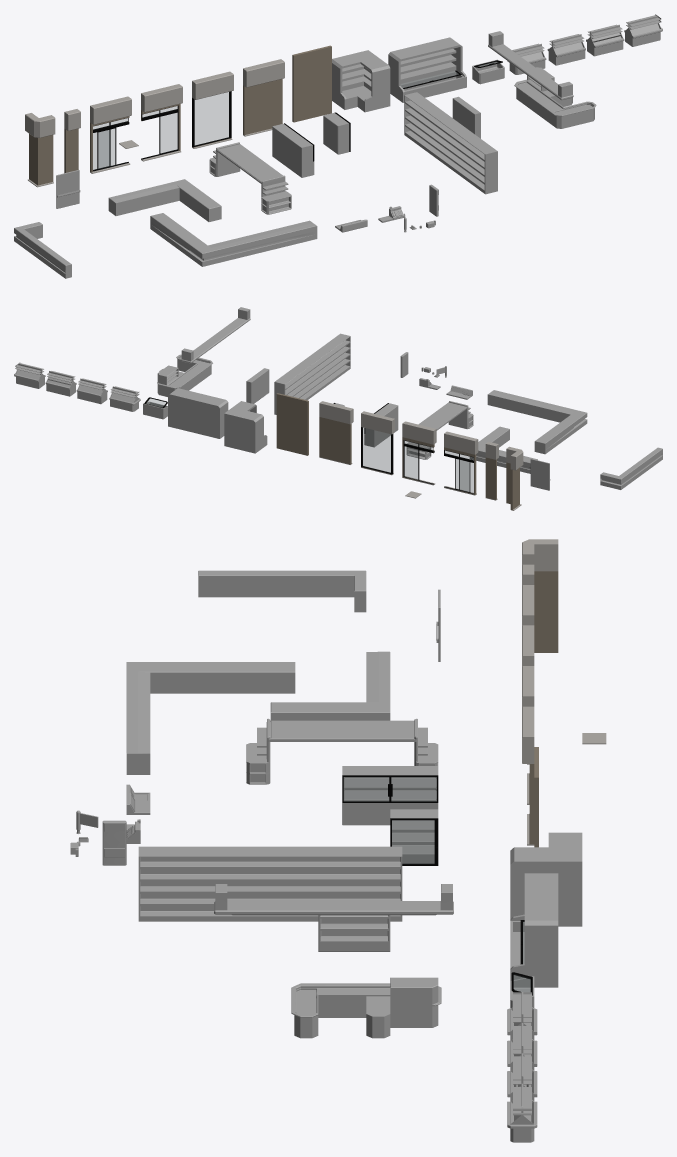
The model's file is GroceryStoreModular.fbx.
3 views of the same model, one above another, from view 1: azimuth 30°, elevation 25°; view 2: azimuth 150°, elevation 25°; view 3: azimuth 270°, elevation 25° (orthographic). The views are drawn at different scales.
Visible parts, largest first — view 1: tall_shelf, fridge_shelf, self_check_out_table_2, fridge_shelf_corner, GSmod_wall_3m, GSmod_wall_intersecting, low_shelf, self_check_out_table_1, cashier, GSmod_corner, frozenShelf, window_glass (+16 smaller); view 2: tall_shelf, self_check_out_table_2, fridge_shelf, GSmod_wall_3m, GSmod_wall_intersecting, fridge_shelf_corner, cashier, low_shelf, window_glass, GSmod_doorFrame_right, GSmod_doorFrame_left, table (+15 smaller); view 3: tall_shelf, self_check_out_table_2, cashier, low_shelf, table, frozenShelf, fridge_shelf, fridge_shelf_corner, light, self_check_out_table_1, GSmod_corner, short_shelf (+9 smaller).
Boxes of the visible parts, box(x1,y1,x2,y2) form: tall_shelf: box(404, 92, 497, 194); fridge_shelf: box(388, 37, 466, 102); self_check_out_table_2: box(150, 213, 317, 266); fridge_shelf_corner: box(332, 50, 390, 112); GSmod_wall_3m: box(243, 59, 284, 136); GSmod_wall_intersecting: box(292, 45, 331, 122); low_shelf: box(209, 142, 291, 214); self_check_out_table_1: box(108, 179, 221, 221); cashier: box(514, 67, 596, 128); GSmod_corner: box(25, 113, 55, 187); frozenShelf: box(272, 123, 314, 177); window_glass: box(195, 92, 228, 145); tall_shelf: box(274, 333, 350, 414); self_check_out_table_2: box(487, 390, 587, 454); fridge_shelf: box(168, 388, 228, 438); GSmod_wall_3m: box(319, 401, 353, 464); GSmod_wall_intersecting: box(276, 393, 308, 455); fridge_shelf_corner: box(224, 401, 267, 453); cashier: box(157, 354, 212, 396); low_shelf: box(406, 401, 473, 459); window_glass: box(363, 428, 390, 472); GSmod_doorFrame_right: box(402, 421, 436, 485); GSmod_doorFrame_left: box(444, 431, 478, 495); table: box(600, 447, 662, 489); tall_shelf: box(138, 846, 402, 921); self_check_out_table_2: box(126, 662, 295, 774); cashier: box(291, 977, 441, 1038); low_shelf: box(246, 718, 438, 784); table: box(198, 570, 366, 612); frozenShelf: box(342, 766, 438, 825); fridge_shelf: box(510, 873, 558, 987); fridge_shelf_corner: box(510, 832, 582, 926); light: box(214, 884, 453, 915); self_check_out_table_1: box(270, 651, 390, 720); GSmod_corner: box(522, 539, 558, 652); short_shelf: box(318, 900, 390, 951).
Bounding box in the file's own units: 54.4 × 5.01 × 22.33.
